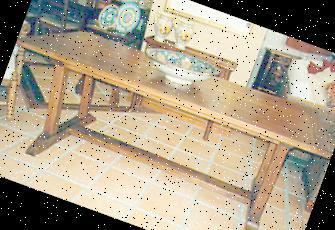Mesa: (0, 13, 334, 229)
